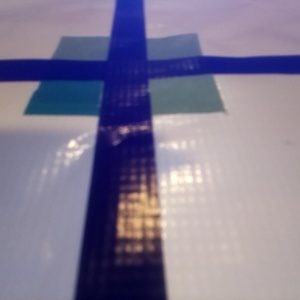top_right: (101, 3, 170, 31)
